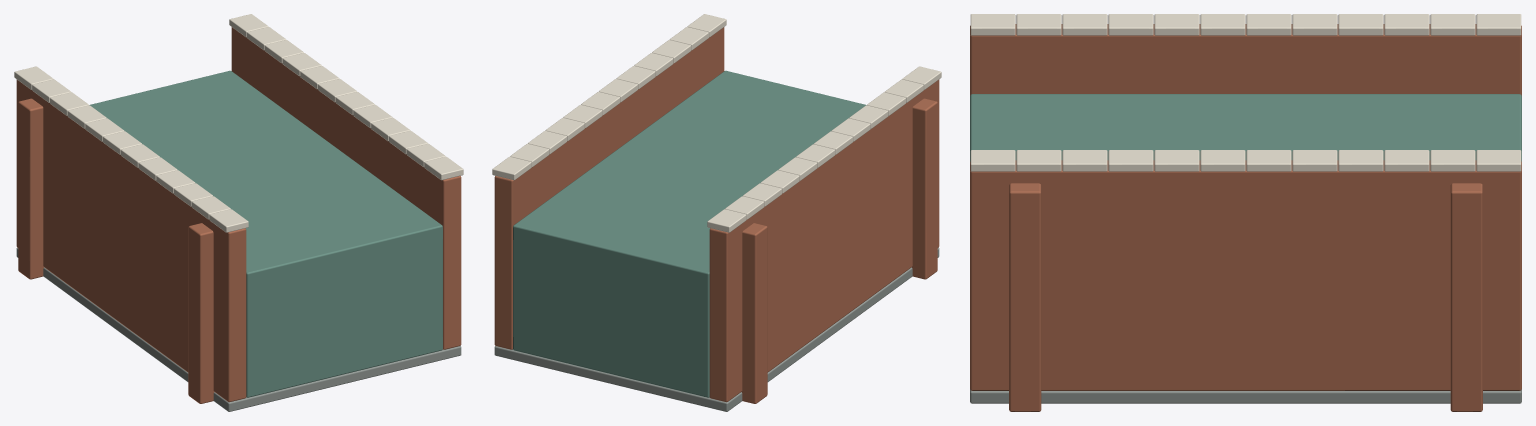
Rendered from canal-boats-and-lock-operations-canal-boats-and-lock-o-b257cd78__31618.glb.
The picture shows the model from 3 angles, left to right: view 1: azimuth 30°, elevation 25°; view 2: azimuth 150°, elevation 25°; view 3: azimuth 270°, elevation 25°; orthographic projection. The views are drawn at different scales.
Visible parts, largest first — view 1: canal-boats-and-lock-operations-upper-pound-channel; view 2: canal-boats-and-lock-operations-upper-pound-channel; view 3: canal-boats-and-lock-operations-upper-pound-channel.
Part boxes in pixels (x1,y1,x2,y2): canal-boats-and-lock-operations-upper-pound-channel: [14, 14, 463, 411]; canal-boats-and-lock-operations-upper-pound-channel: [492, 14, 941, 411]; canal-boats-and-lock-operations-upper-pound-channel: [970, 14, 1521, 411].
Size of the model in its own units: 4.24 by 2.9 by 6.
